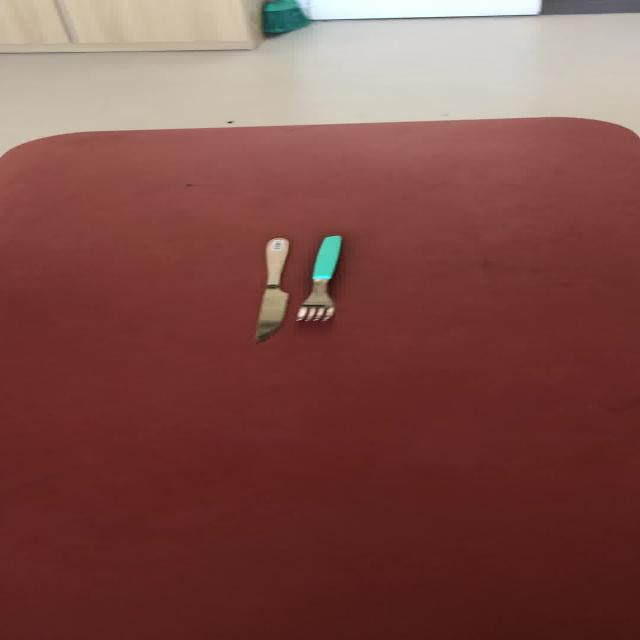fork: (294, 234, 341, 322), (253, 237, 289, 342)
knife fork: (294, 234, 342, 322), (253, 236, 289, 342)
